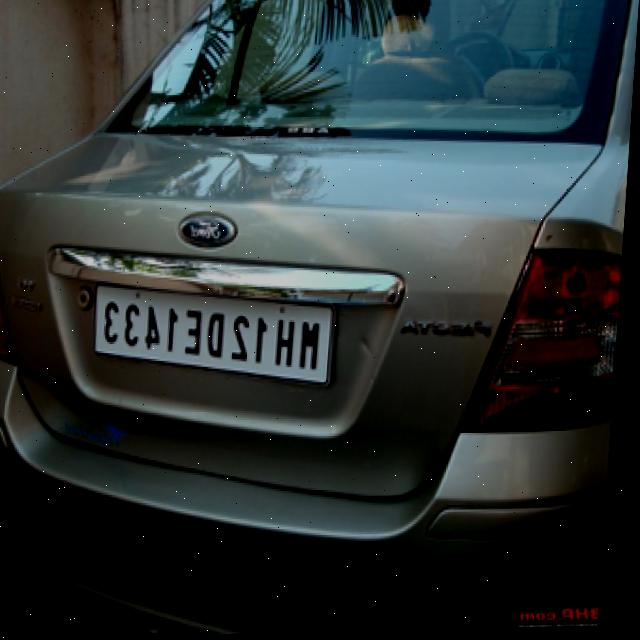plate: (94, 278, 340, 393)
